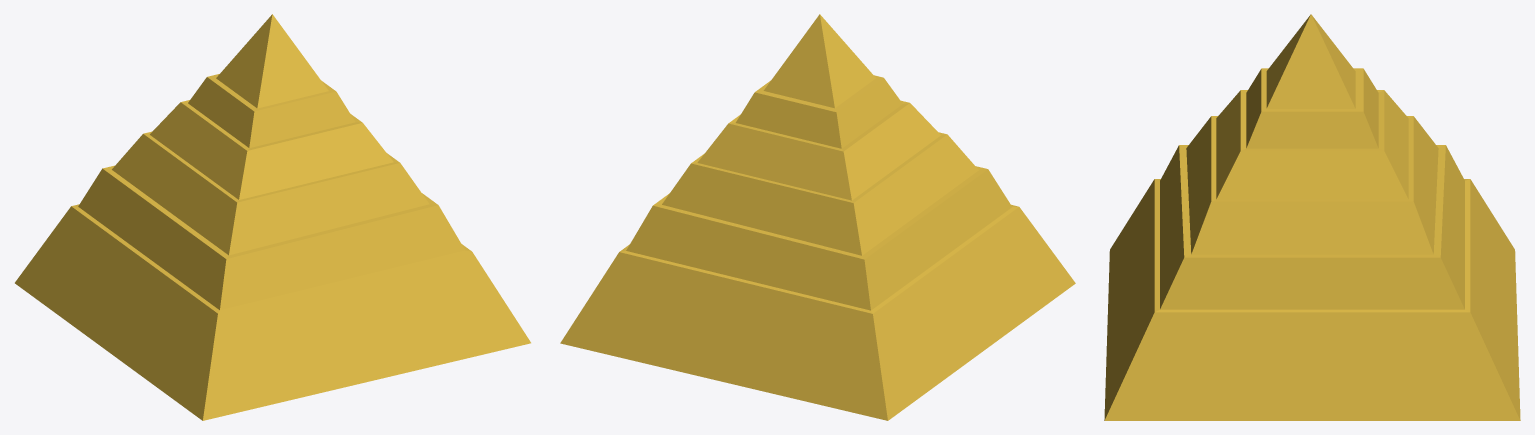
3 renders of one model, left to right at view 1: azimuth 30°, elevation 25°; view 2: azimuth 150°, elevation 25°; view 3: azimuth 270°, elevation 25°, orthographic. The views are drawn at different scales.
Visible parts, largest first — view 1: Cube, Cone; view 2: Cube, Cone; view 3: Cube, Cone.
Boxes of the visible parts, bbox=[...] form: Cube: bbox=[15, 74, 530, 420]; Cone: bbox=[216, 14, 328, 108]; Cube: bbox=[560, 75, 1075, 420]; Cone: bbox=[763, 14, 875, 108]; Cube: bbox=[1104, 68, 1520, 420]; Cone: bbox=[1266, 14, 1355, 108].
Size of the model in its own units: 1727 by 1511 by 1773.
